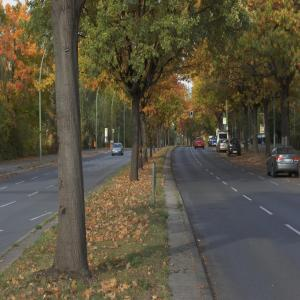Vehicle-registration-plate: (285, 159, 293, 162)
